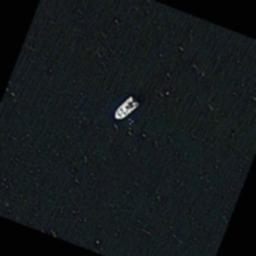boat: (112, 91, 142, 125)
